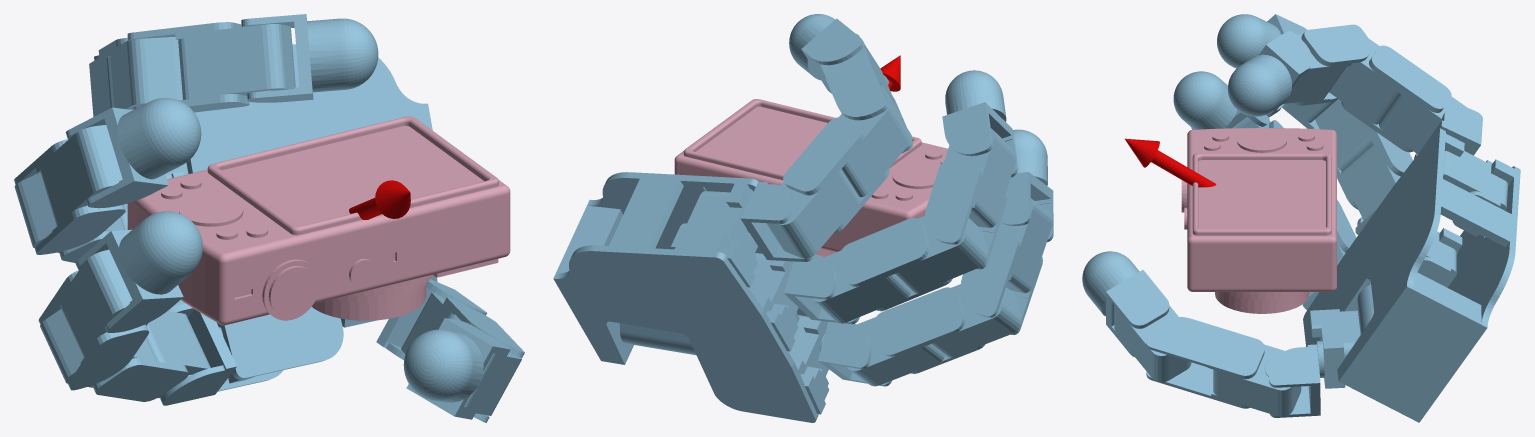
3 views of the same model, side by side, from view 1: azimuth 30°, elevation 25°; view 2: azimuth 150°, elevation 25°; view 3: azimuth 270°, elevation 25° (orthographic). The views are drawn at different scales.
Visible parts, largest first — view 1: world, camera.stl; view 2: world, camera.stl; view 3: world, camera.stl.
Boxes of the visible parts, bbox=[...] form: world: bbox=[14, 14, 524, 422]; camera.stl: bbox=[127, 116, 510, 325]; world: bbox=[553, 14, 1053, 422]; camera.stl: bbox=[674, 99, 947, 257]; world: bbox=[1082, 14, 1520, 422]; camera.stl: bbox=[1181, 128, 1336, 313].
Bounding box in the file's own units: 0.1727 × 0.1604 × 0.1893.
